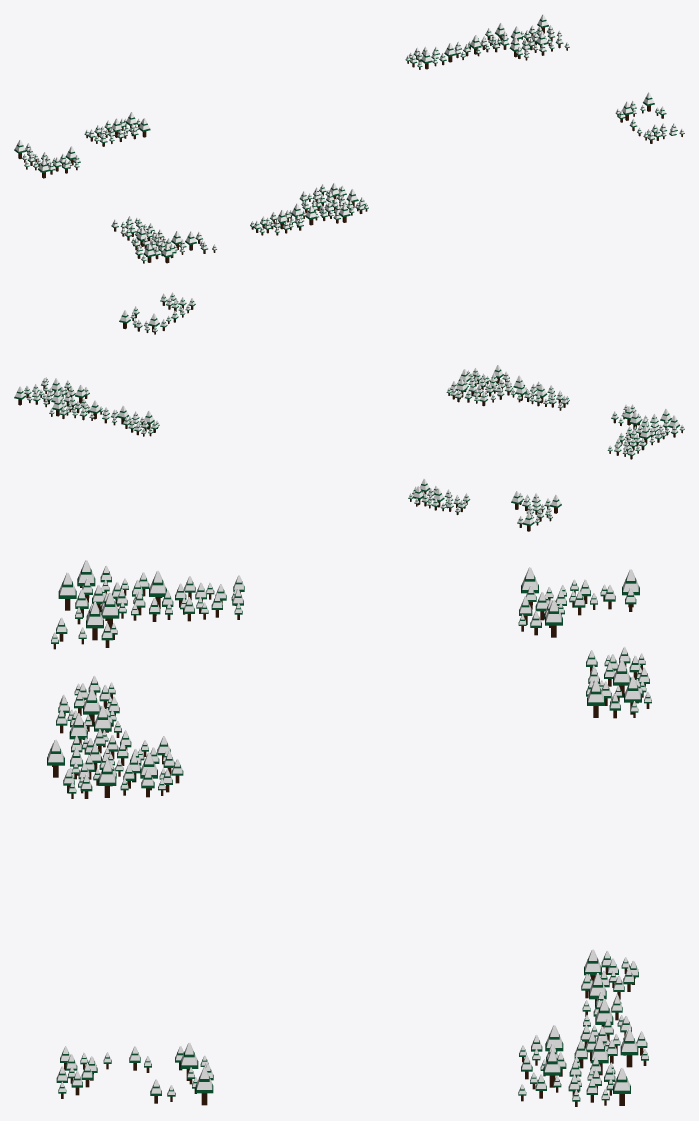
Rendered from tree.fbx.
3 views of the same model, one above another, from view 1: azimuth 30°, elevation 25°; view 2: azimuth 150°, elevation 25°; view 3: azimuth 270°, elevation 25° (orthographic). The views are drawn at different scales.
Parts seen in each view (by area): view 1: tree.001; view 2: tree.001; view 3: tree.001.
Part boxes in pixels (bbox=[...]): tree.001: bbox=[14, 14, 684, 263]; tree.001: bbox=[14, 292, 684, 531]; tree.001: bbox=[47, 560, 651, 1106].
Bounding box in the file's own units: 3793 × 124 × 1857.
